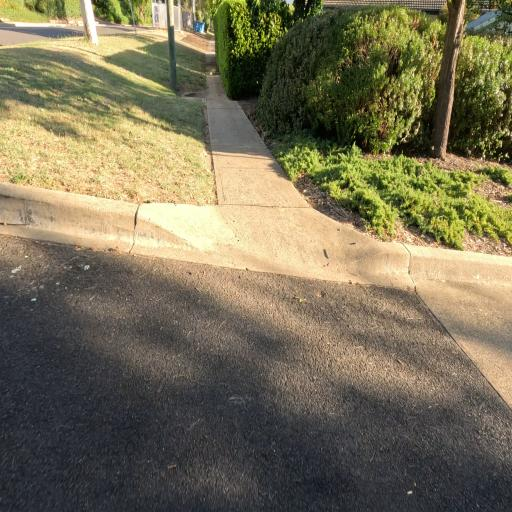kerb_cut: (225, 213, 352, 288)
